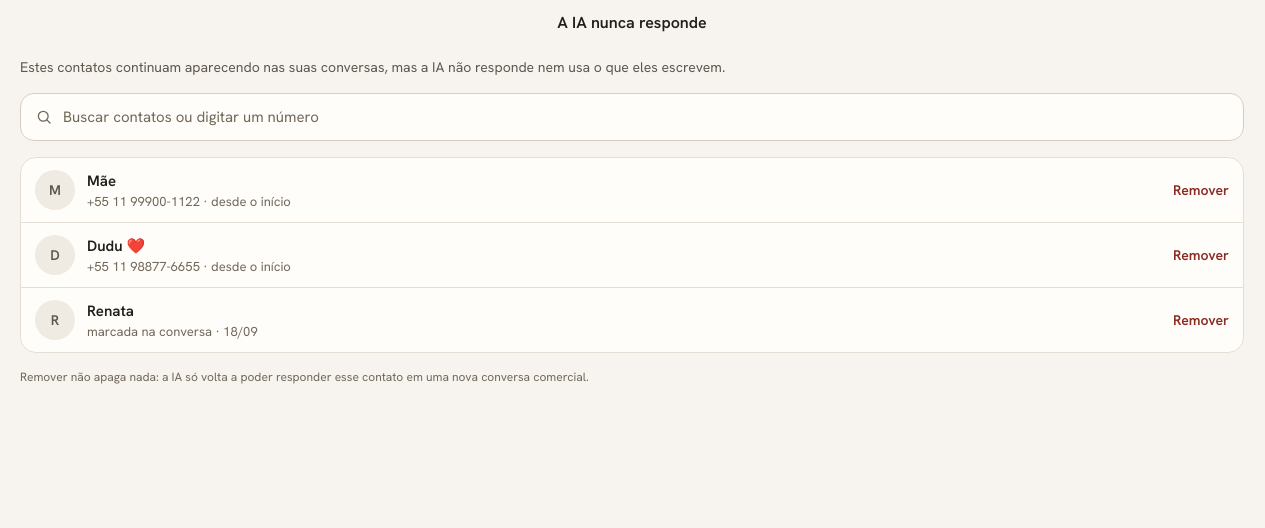
Test case: Goal140 a busca › Adicionar grava SETTINGS com o texto, esvazia o campo e relê a lista
Expected: the text "Mãe" is shown, [87,171,116,191]
In the search field labelled "Buscar contatos ou digitar um número": coordinates (646, 117) [63,94,1229,140], type "+55 11 96666-5555"
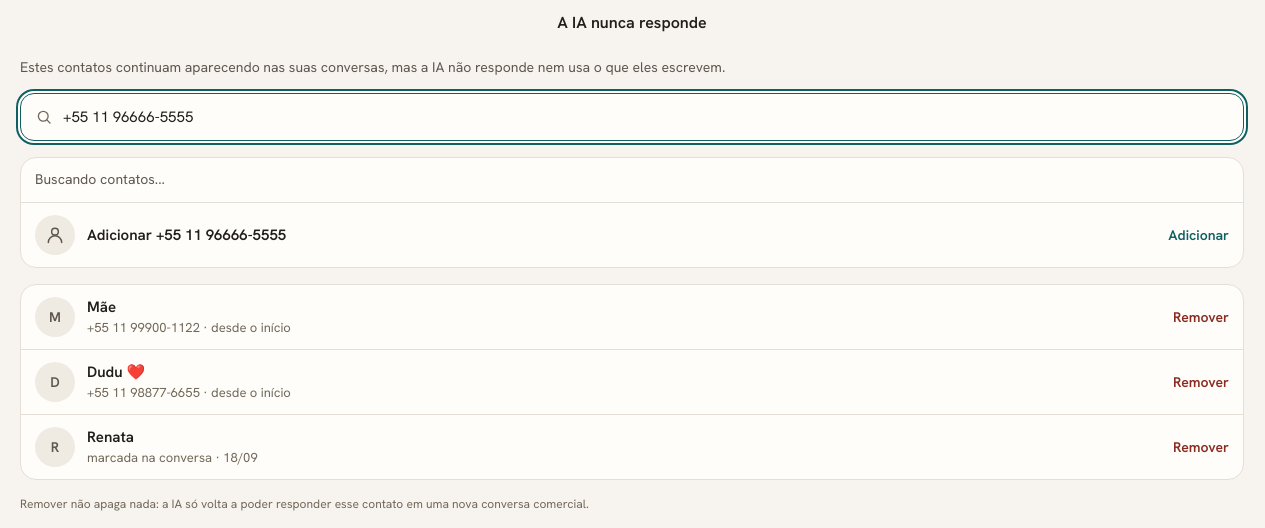
Click the button "Adicionar": coordinates (1199, 235) [1160,215,1237,255]
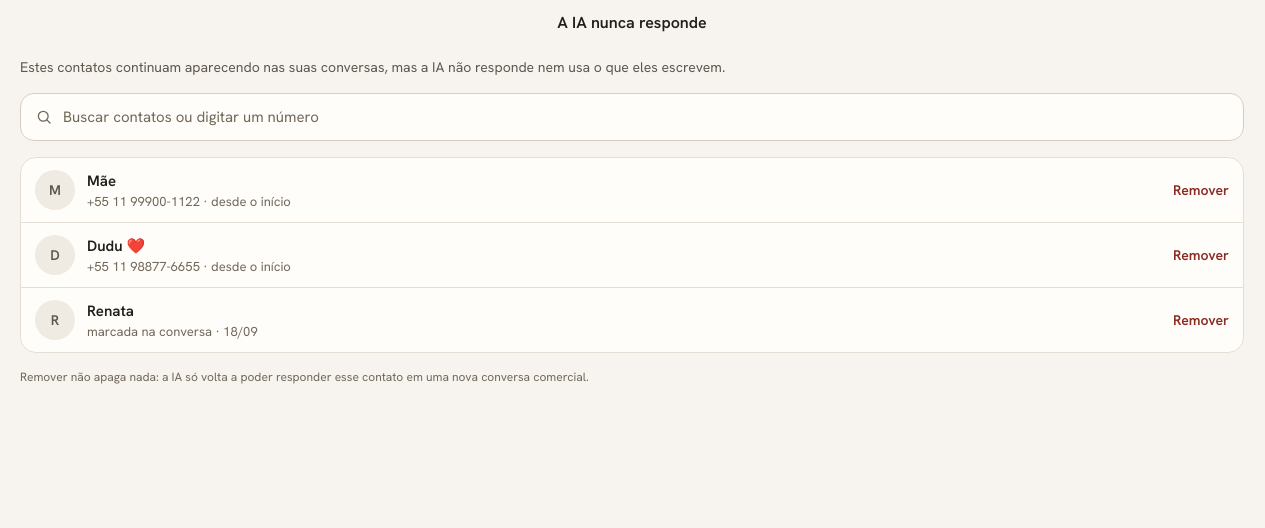
Expected: the search field is empty, [63,94,1229,140]
Expected: the text "Adicionar" is gone
